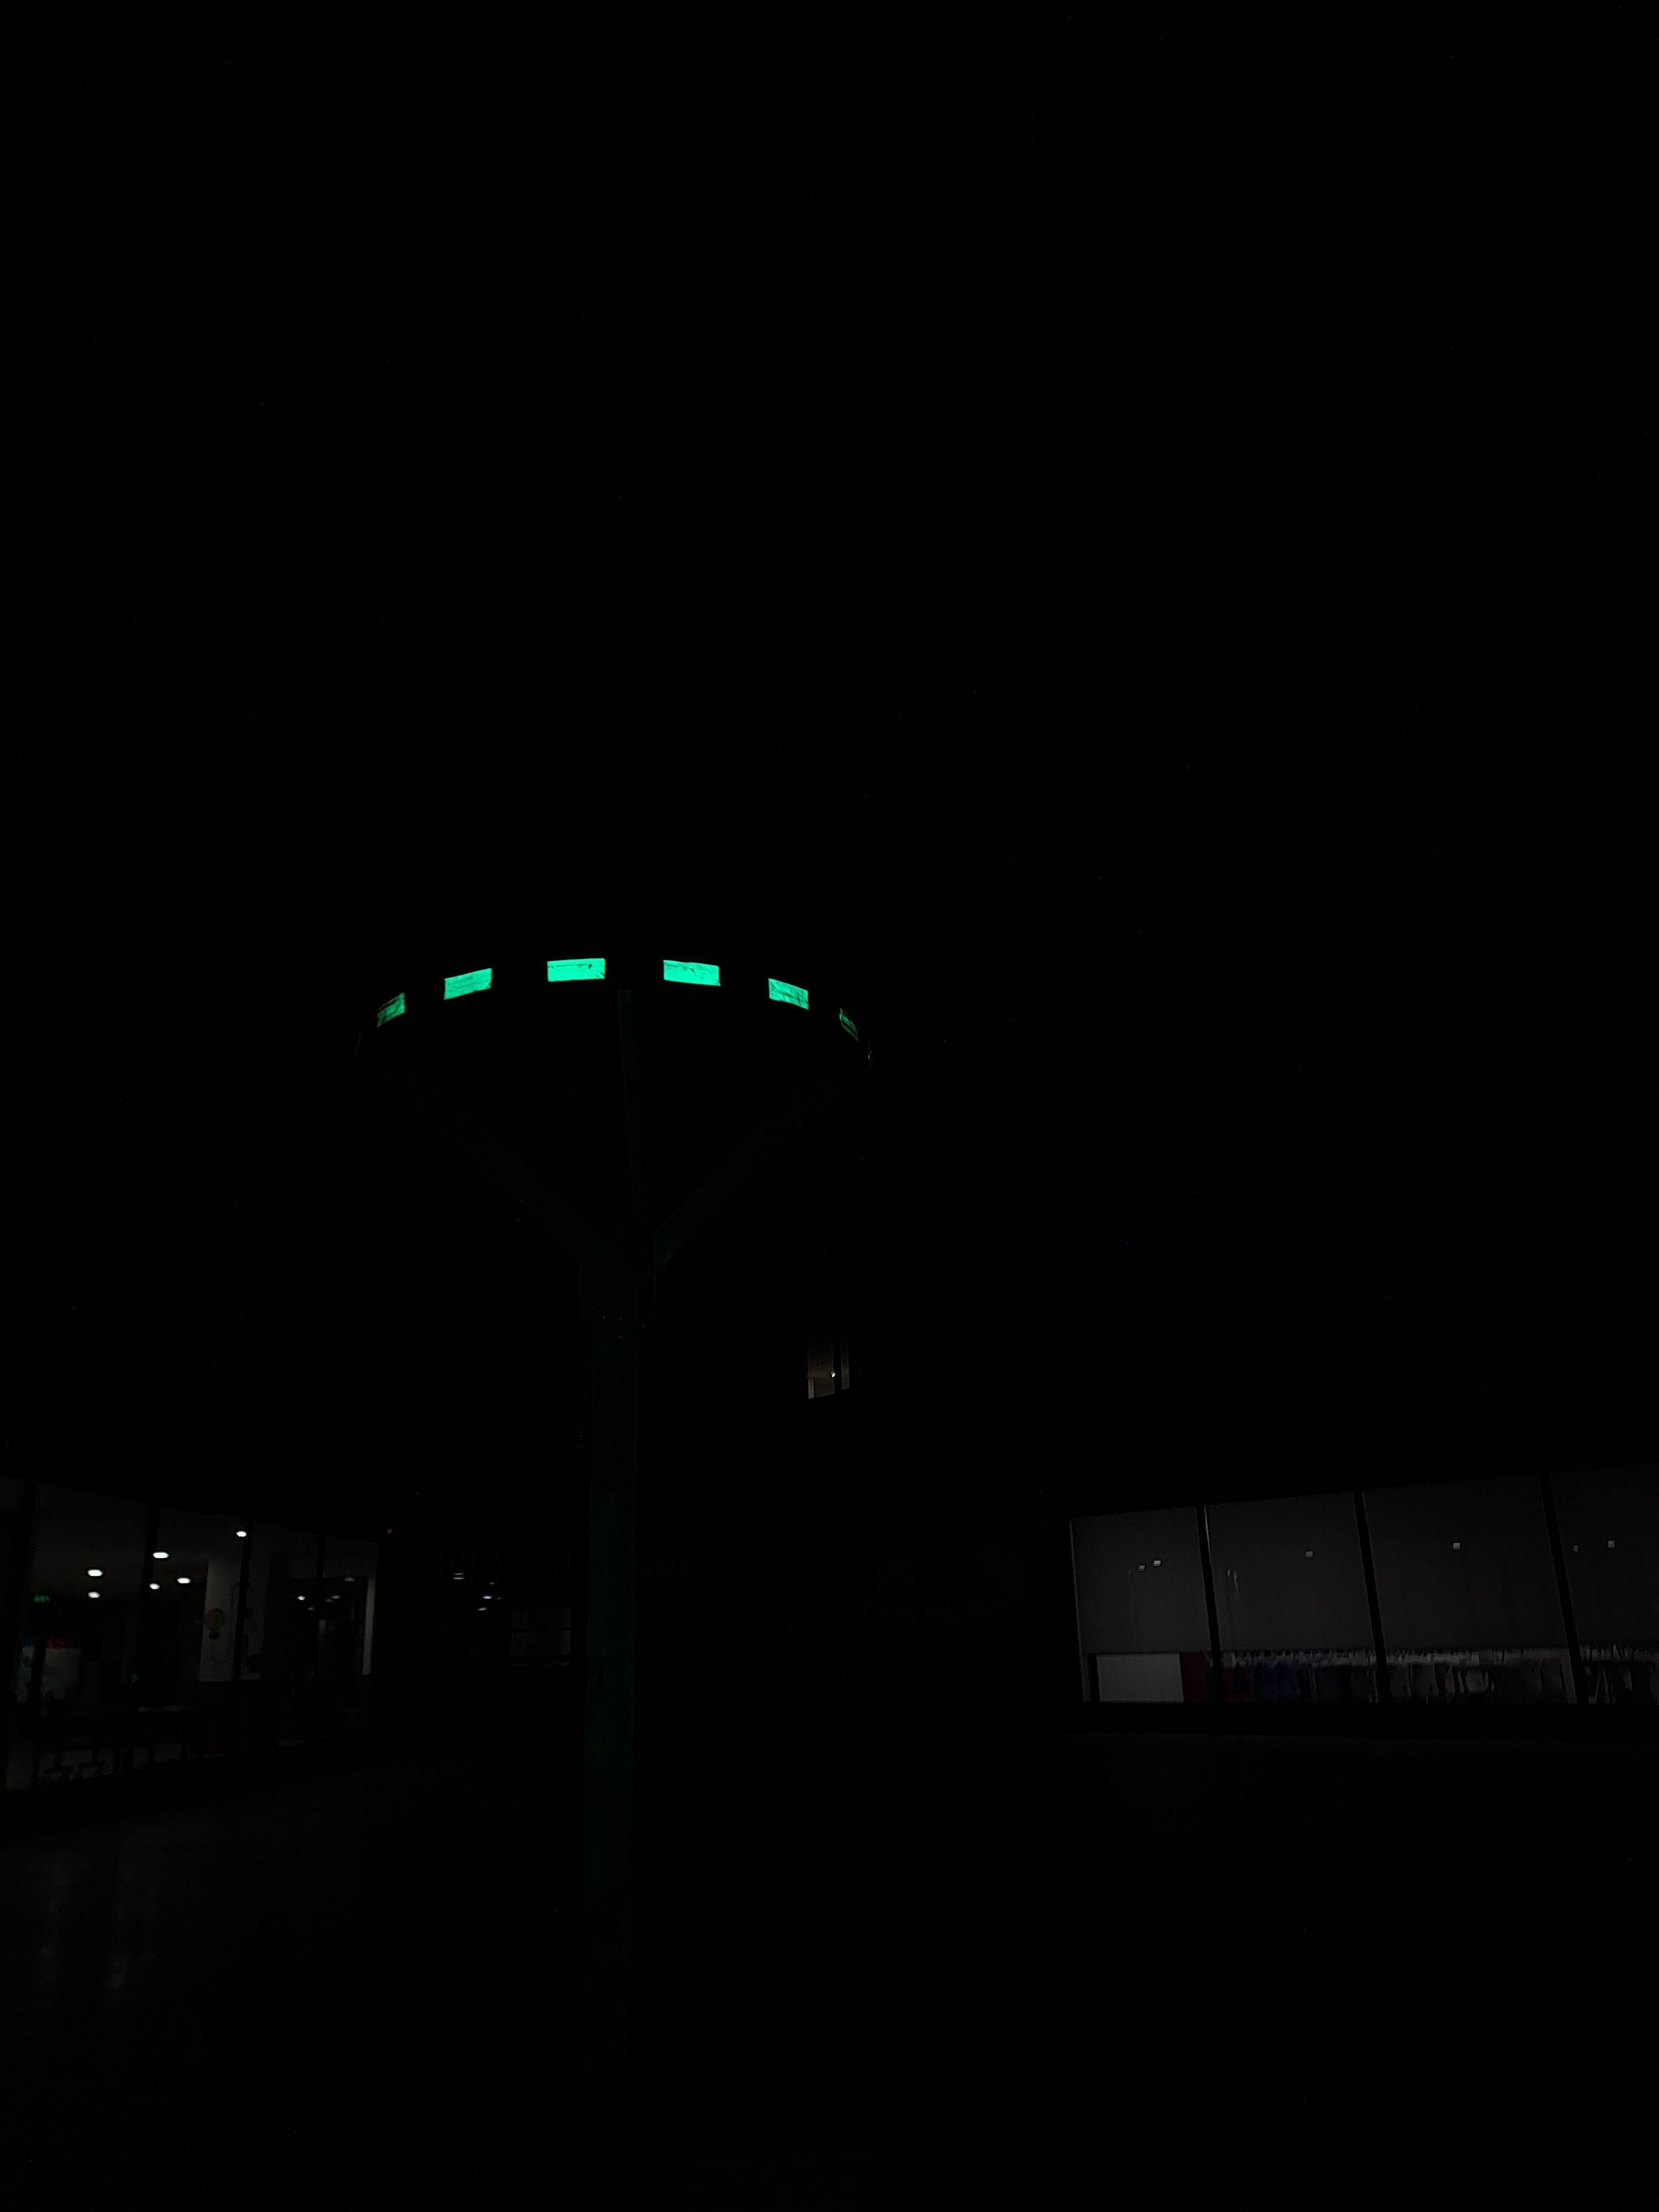hoop: (378, 944, 814, 1052)
